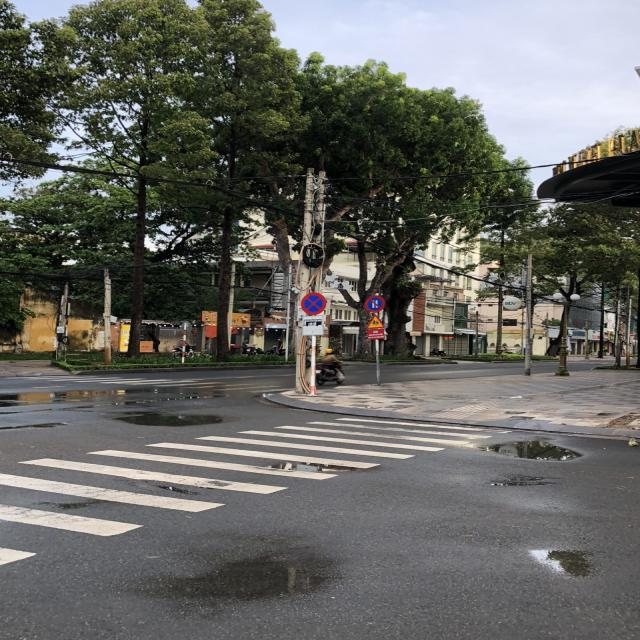Bien bao cam dung xe va do xe: (300, 290, 329, 315)
Bien bao tre em: (366, 313, 385, 328)
